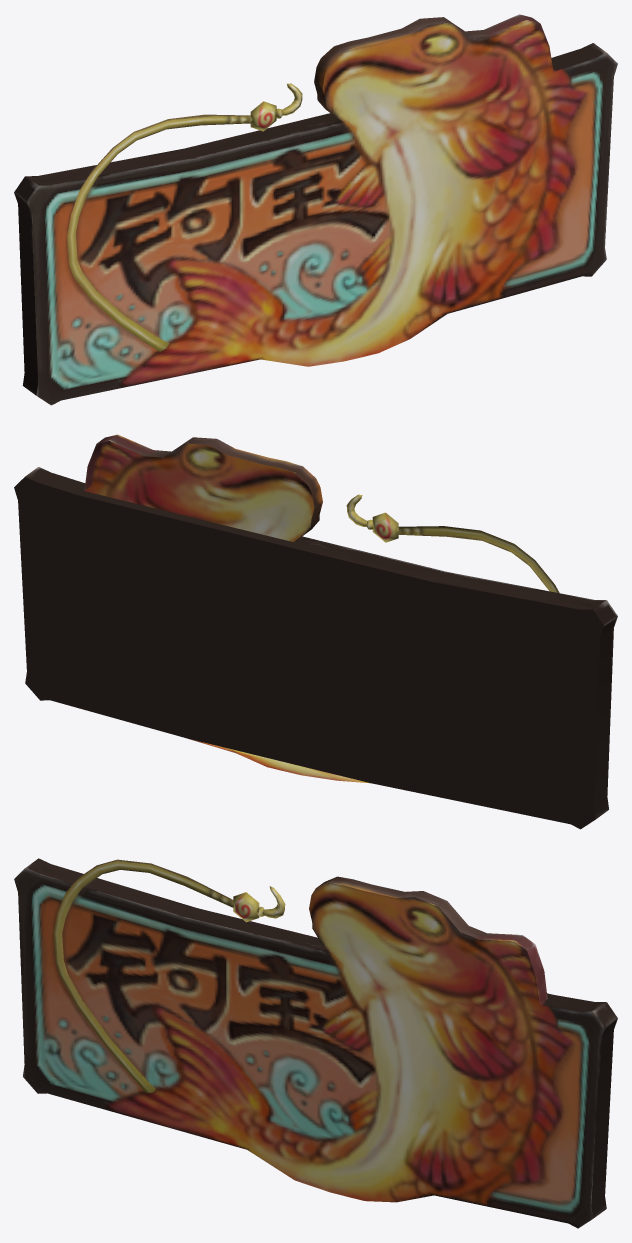
3 renders of one model, top to bottom at view 1: azimuth 30°, elevation 25°; view 2: azimuth 150°, elevation 25°; view 3: azimuth 330°, elevation 25°, orthographic.
Parts seen in each view (by area): view 1: wq_wj009_01; view 2: wq_wj009_01; view 3: wq_wj009_01.
Part boxes in pixels (x1,y1,x2,y2): wq_wj009_01: (14, 14, 617, 405); wq_wj009_01: (14, 434, 617, 829); wq_wj009_01: (14, 858, 617, 1228).
Size of the model in its own units: 391 by 200 by 20.81.
1 material, 1 textured.
